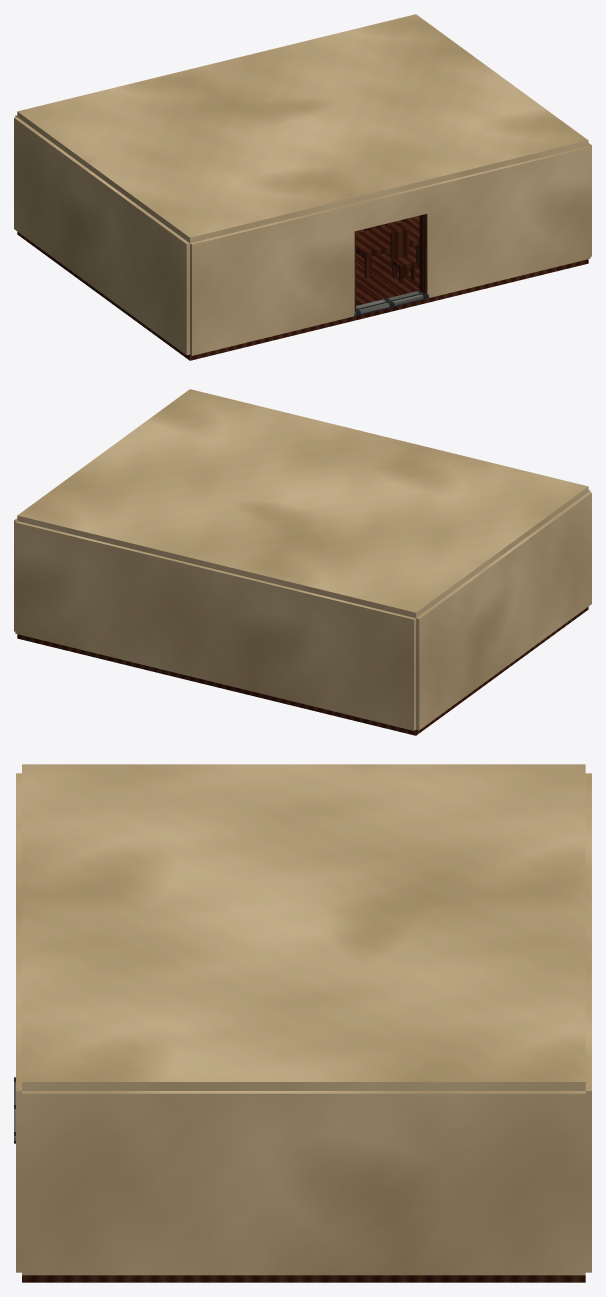
The model's file is interior.glb.
3 renders of one model, top to bottom at view 1: azimuth 30°, elevation 25°; view 2: azimuth 150°, elevation 25°; view 3: azimuth 270°, elevation 25°, orthographic. The views are drawn at different scales.
Parts seen in each view (by area): view 1: Interior_Architecture, Interior_TablesChairsStools, Interior_Floorboards; view 2: Interior_Architecture; view 3: Interior_Architecture.
Part boxes in pixels (x1,y1,x2,y2): Interior_Architecture: (14, 14, 591, 360); Interior_TablesChairsStools: (356, 218, 419, 282); Interior_Floorboards: (356, 215, 419, 305); Interior_Architecture: (14, 389, 591, 735); Interior_Architecture: (14, 764, 591, 1282).
Bounding box in the file's own units: 12.2 × 3.54 × 9.23.
14 materials, 6 textured.
